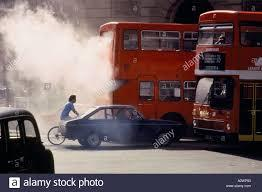smoke: (0, 0, 142, 159)
